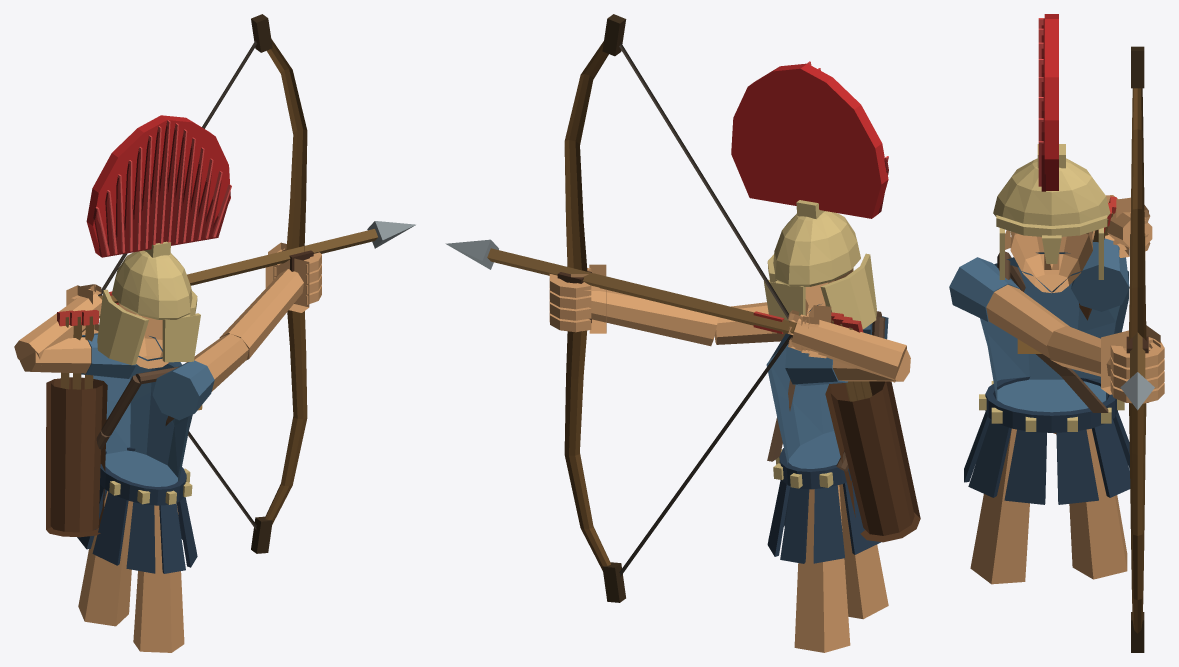
The model's file is romanSoldier_longbow_red.glb.
The picture shows the model from 3 angles, left to right: view 1: azimuth 30°, elevation 25°; view 2: azimuth 150°, elevation 25°; view 3: azimuth 270°, elevation 25°; orthographic projection. The views are drawn at different scales.
Visible parts, largest first — view 1: Helmet_Galea.002, n75, n3, soldier-crest-feathers, soldier-crest, Skirt_Ten_Separated_Lames.002, soldier-crest-stems, n24, n27, n54, n59, Forearm_L (+14 smaller); view 2: soldier-crest, n75, Helmet_Galea.002, Skirt_Ten_Separated_Lames.002, n27, n3, Forearm_L, n68, n59, Forearm_R, n54, n24 (+11 smaller); view 3: Skirt_Ten_Separated_Lames.002, Helmet_Galea.002, n3, n24, n27, n54, n7, n59, n18, Closed_gripping_hand_L, Short_blue_sleeve_R, Waist_Belt.002 (+12 smaller).
Boxes of the visible parts, box(x1,y1,x2,y2) form: Helmet_Galea.002: box(97, 241, 200, 504); n75: box(46, 377, 107, 537); n3: box(93, 336, 192, 486); soldier-crest-feathers: box(93, 123, 230, 257); soldier-crest: box(86, 115, 230, 257); Skirt_Ten_Separated_Lames.002: box(77, 485, 197, 573); soldier-crest-stems: box(95, 120, 231, 255); n24: box(133, 504, 184, 652); n27: box(78, 491, 133, 626); n54: box(267, 39, 307, 251); n59: box(265, 310, 307, 524); Forearm_L: box(219, 269, 303, 360); soldier-crest: box(731, 63, 888, 218); n75: box(825, 381, 920, 542); Helmet_Galea.002: box(764, 200, 876, 488); Skirt_Ten_Separated_Lames.002: box(767, 480, 881, 563); n27: box(794, 485, 850, 652); n3: box(766, 304, 888, 468); Forearm_L: box(589, 288, 718, 346); n68: box(487, 248, 796, 334); n59: box(564, 330, 610, 570); Forearm_R: box(791, 314, 906, 382); n54: box(564, 41, 608, 271); n24: box(839, 484, 888, 619); Skirt_Ten_Separated_Lames.002: box(964, 411, 1130, 504); Helmet_Galea.002: box(979, 144, 1124, 431); n3: box(980, 252, 1128, 412); n24: box(970, 428, 1029, 584); n27: box(1069, 428, 1127, 579); n54: box(1128, 88, 1146, 340); n7: box(1005, 230, 1092, 293); n59: box(1129, 403, 1146, 633); n18: box(986, 284, 1069, 358); Closed_gripping_hand_L: box(1101, 325, 1164, 403); Short_blue_sleeve_R: box(1071, 238, 1129, 311); Waist_Belt.002: box(985, 376, 1117, 432).
Bounding box in the file's own units: 0.978 × 1.25 × 0.3966.
